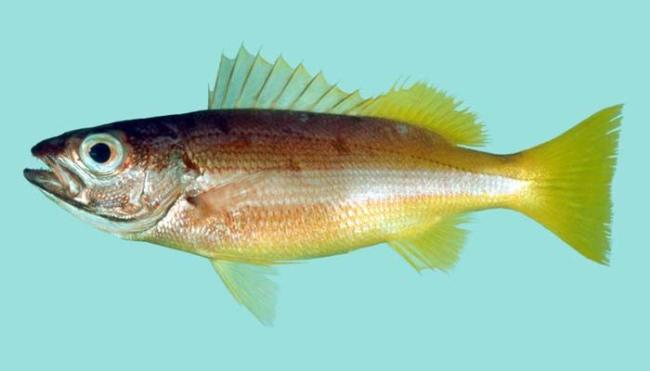fish: (22, 41, 626, 331)
